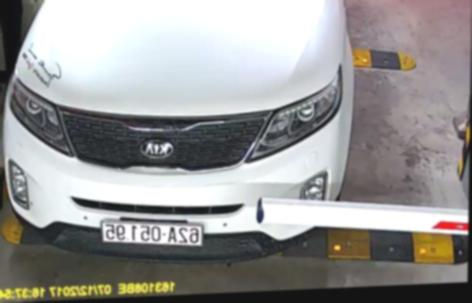License_Plate: (94, 210, 215, 255)
